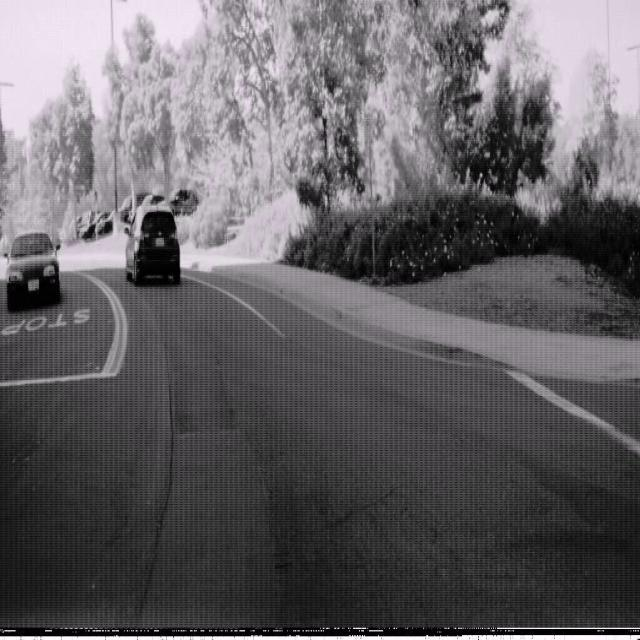pedestrianCrossing: (86, 180, 105, 213)
